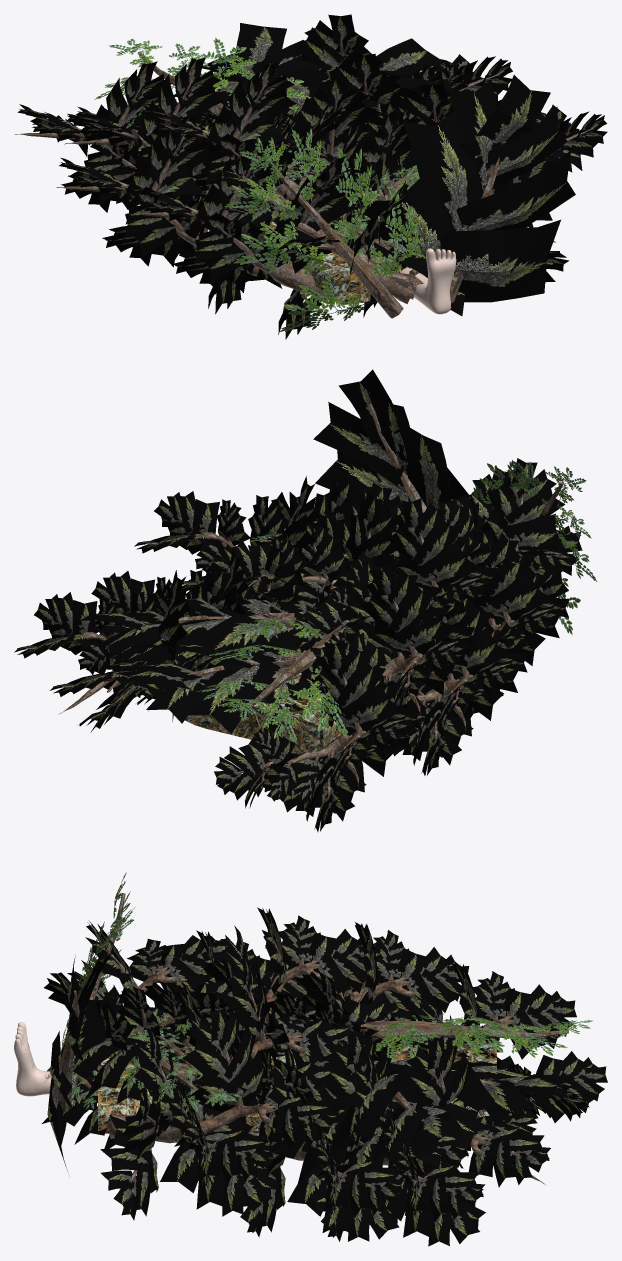
File: pie (1).fbx
The picture shows the model from 3 angles, top to bottom: view 1: azimuth 30°, elevation 25°; view 2: azimuth 150°, elevation 25°; view 3: azimuth 270°, elevation 25°; orthographic projection. The views are drawn at different scales.
Parts seen in each view (by area): view 1: Arbol.015, Arbol.014, Rama.005, Rama.004, Rama, Rama.002, Rama.001, Rama.006, Rama.003, Rama.007, Rama.009, Arbol.012 (+7 smaller); view 2: Rama.006, Rama.003, Arbol.015, Rama.007, Rama.002, Rama.009, Rama.004, Rama.001, Rama, Arbol.012, Arbol.010, Rama.005 (+5 smaller); view 3: Rama.009, Rama.007, Rama.008, Rama, Rama.002, Rama.006, Rama.001, Rama.003, Arbol.010, Arbol.015, Arbol.013, Arbol.012 (+9 smaller).
Part boxes in pixels (bbox=[...]): Arbol.015: bbox=[360, 75, 575, 303]; Arbol.014: bbox=[224, 128, 425, 331]; Rama.005: bbox=[125, 141, 331, 339]; Rama.004: bbox=[56, 115, 259, 314]; Rama: bbox=[214, 122, 423, 317]; Rama.002: bbox=[138, 62, 351, 221]; Rama.001: bbox=[272, 76, 438, 200]; Rama.006: bbox=[14, 61, 212, 259]; Rama.003: bbox=[64, 57, 250, 207]; Rama.007: bbox=[292, 14, 512, 101]; Rama.009: bbox=[386, 83, 607, 282]; Arbol.012: bbox=[174, 23, 321, 122]; Rama.006: bbox=[214, 640, 421, 831]; Rama.003: bbox=[278, 566, 475, 748]; Arbol.015: bbox=[313, 369, 477, 526]; Rama.007: bbox=[14, 565, 245, 732]; Rama.002: bbox=[290, 498, 497, 652]; Rama.009: bbox=[134, 475, 357, 603]; Rama.004: bbox=[379, 584, 528, 775]; Rama.001: bbox=[209, 482, 401, 627]; Rama: bbox=[393, 458, 582, 588]; Arbol.012: bbox=[116, 645, 303, 733]; Arbol.010: bbox=[80, 597, 296, 671]; Rama.005: bbox=[458, 529, 569, 721]; Rama.009: bbox=[100, 1007, 338, 1220]; Rama.007: bbox=[309, 1036, 550, 1246]; Rama.008: bbox=[240, 1031, 468, 1241]; Rama: bbox=[44, 920, 262, 1072]; Rama.002: bbox=[181, 907, 411, 1060]; Rama.006: bbox=[411, 963, 607, 1168]; Rama.001: bbox=[138, 954, 366, 1107]; Rama.003: bbox=[277, 922, 500, 1062]; Arbol.010: bbox=[328, 1058, 493, 1162]; Arbol.015: bbox=[47, 946, 118, 1171]; Arbol.013: bbox=[360, 1015, 592, 1058]; Arbol.012: bbox=[391, 1060, 575, 1126].
Size of the model in its own units: 717 by 425 by 819.
8 materials, 8 textured.
